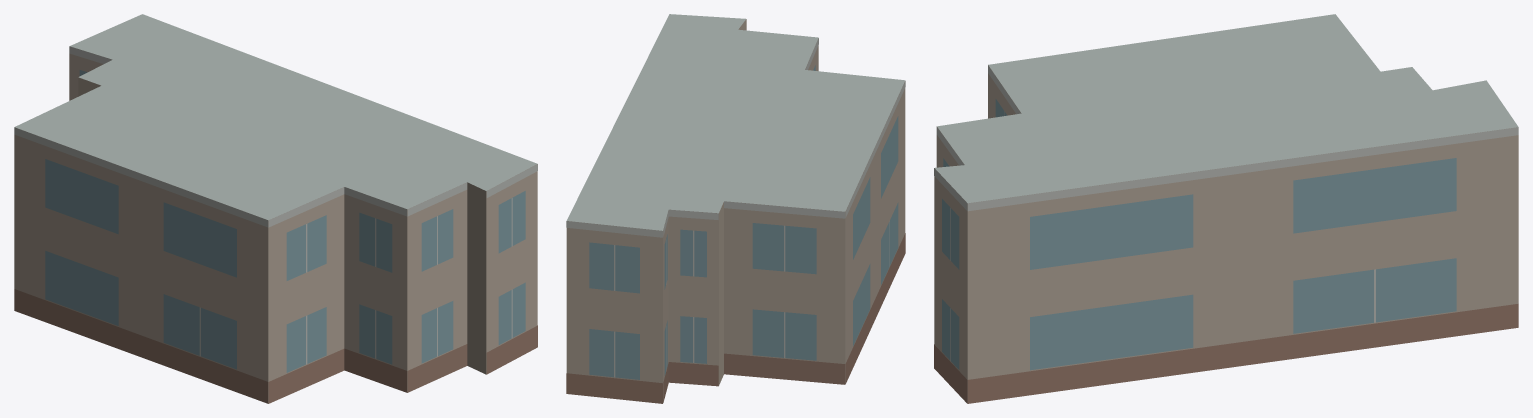
File: survey-upis-32472231.glb
3 renders of one model, left to right at view 1: azimuth 30°, elevation 25°; view 2: azimuth 150°, elevation 25°; view 3: azimuth 270°, elevation 25°, orthographic. The views are drawn at different scales.
Parts seen in each view (by area): view 1: survey-upis-32472231.tmp; view 2: survey-upis-32472231.tmp; view 3: survey-upis-32472231.tmp.
Boxes of the visible parts, left/top/right/bottom form: survey-upis-32472231.tmp: left=14, top=14, right=537, bottom=403; survey-upis-32472231.tmp: left=566, top=14, right=905, bottom=403; survey-upis-32472231.tmp: left=934, top=14, right=1518, bottom=403.
Bounding box in the file's own units: 12.36 × 6.1 × 16.12.
